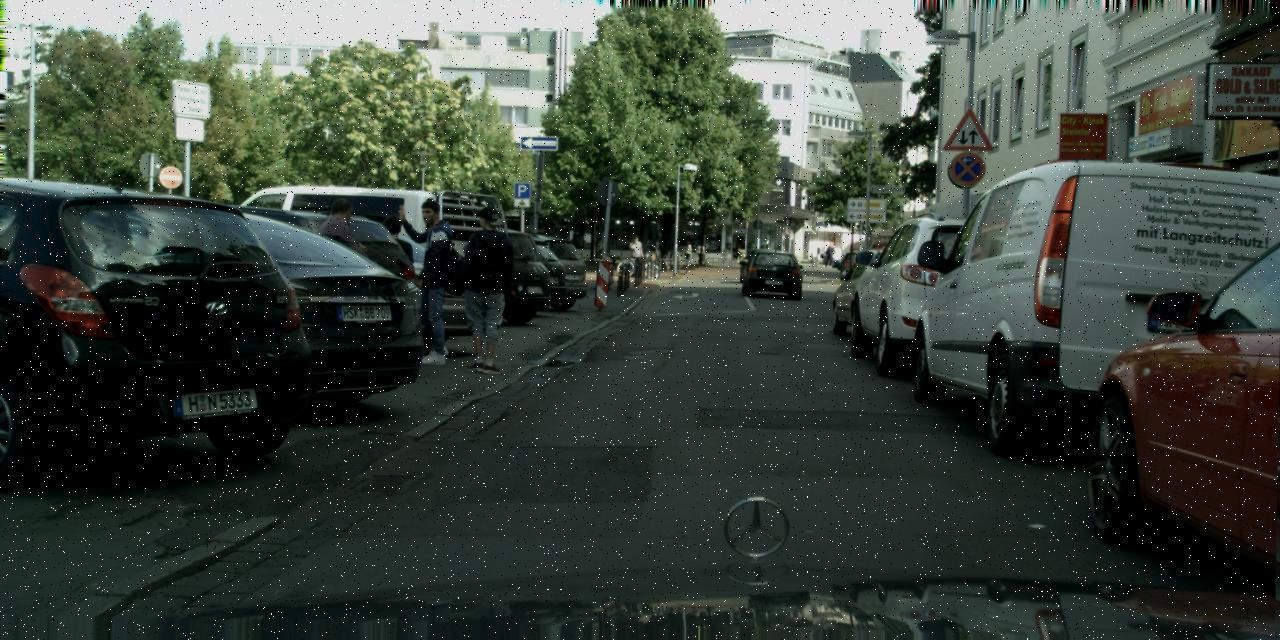ped: (306, 198, 378, 374), (451, 206, 519, 372), (400, 200, 466, 362), (365, 214, 426, 364), (628, 234, 644, 276), (683, 241, 693, 266), (824, 244, 834, 267), (695, 242, 704, 265)
